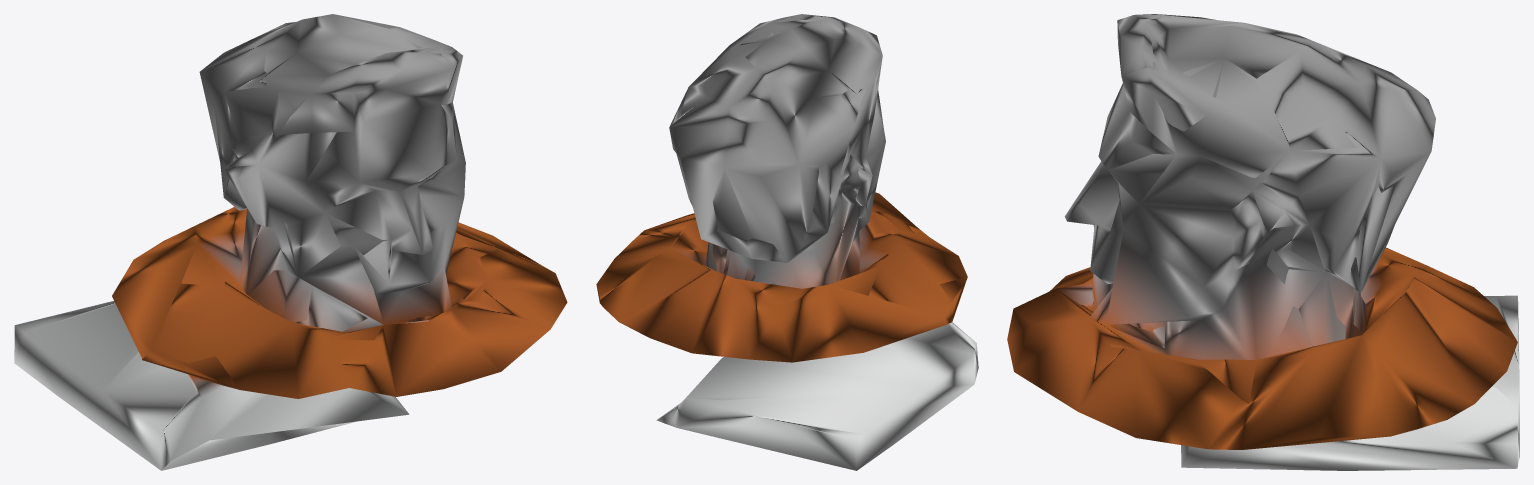
Rendered from gen3d-buried-statue-head-lod1.glb.
3 views of the same model, side by side, from view 1: azimuth 30°, elevation 25°; view 2: azimuth 150°, elevation 25°; view 3: azimuth 270°, elevation 25° (orthographic). The views are drawn at different scales.
Parts seen in each view (by area): view 1: part_0; view 2: part_0; view 3: part_0.
Part boxes in pixels (box(x1,y1,x2,y2)): part_0: box(14, 14, 567, 470); part_0: box(596, 14, 978, 470); part_0: box(1007, 14, 1519, 470).
Bounding box in the file's own units: 1.09 × 0.9991 × 1.09.
